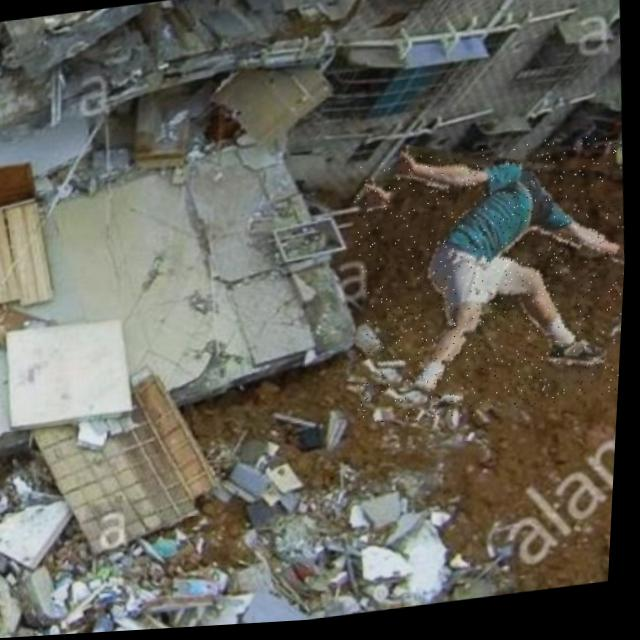Person in Rubble: (344, 137, 633, 435)
